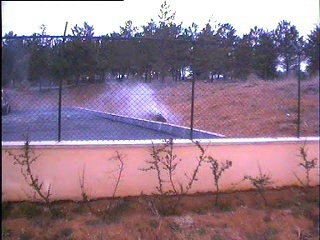smoke: (101, 70, 182, 126)
